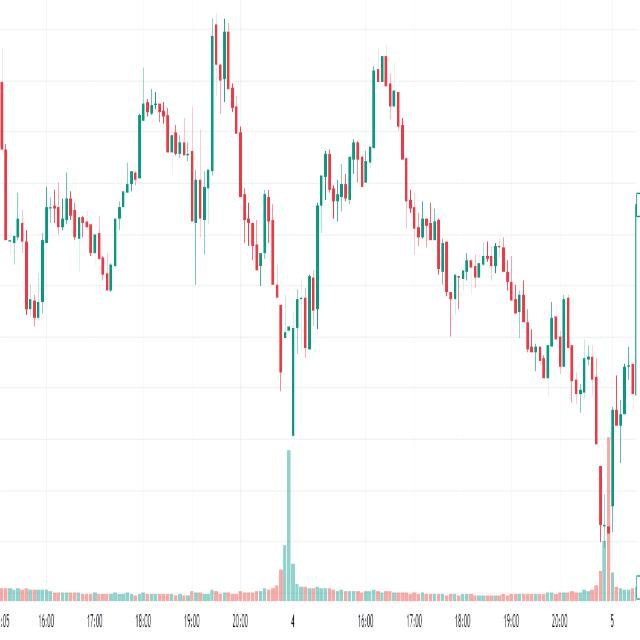Head-Shoulders: (314, 31, 452, 335)
Inverse-Head-Shoulders: (212, 2, 378, 450)
